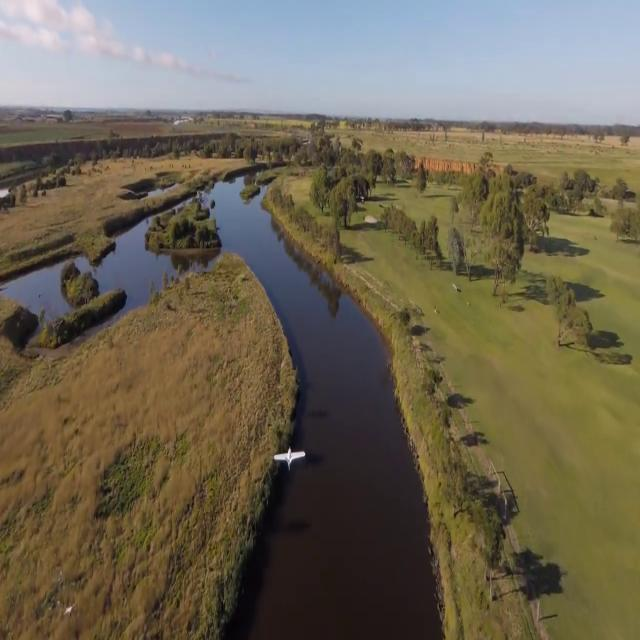iha: (273, 442, 307, 466)
